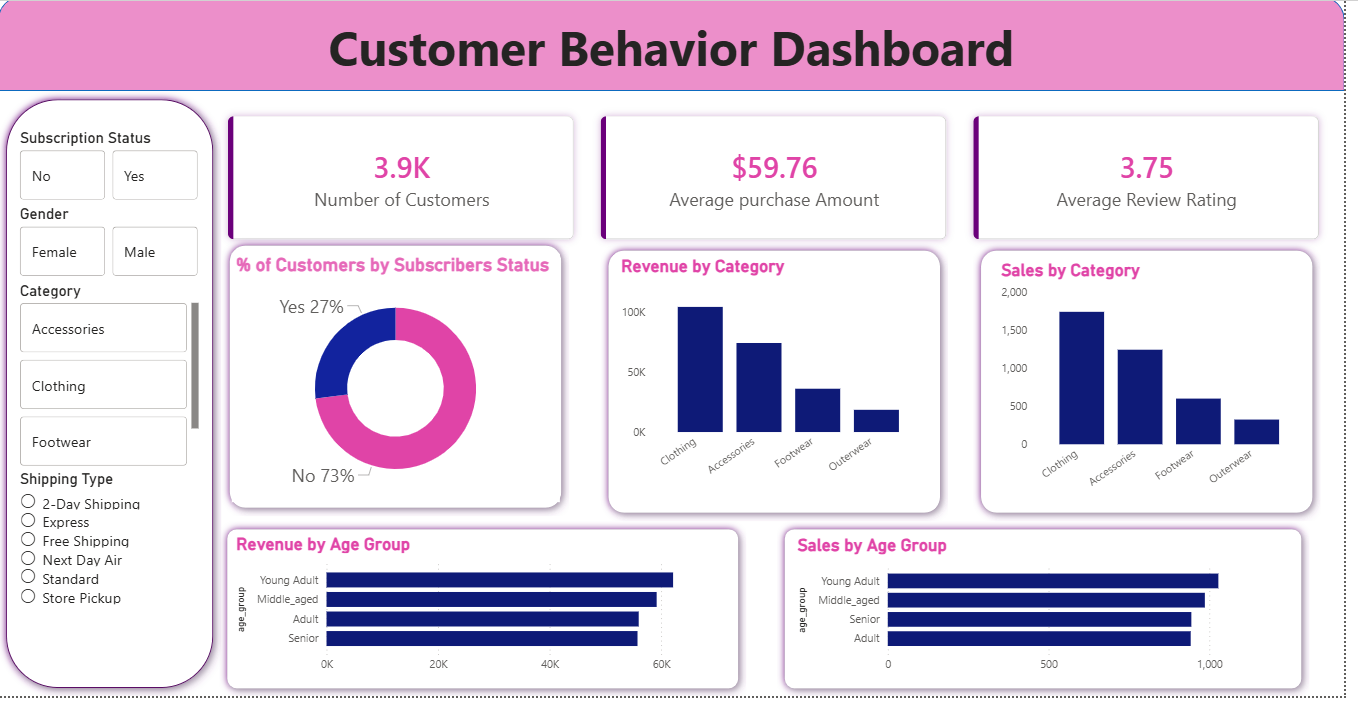

The page's visual inventory and layout, read from the dashboard file:
{"tool":"powerbi","page":{"name":"Page 1","canvas":[1500,820],"ordinal":0},"visuals":[{"type":"cardVisual","fields":{"Data":["public customer.Number of Customers","public customer.Average purchase Amount","public customer.Average Review Rating"]},"box":[228.3,146.4,1272,193.6],"z":0},{"type":"shape","box":[0,40.9,1500.3,105.5],"z":1000},{"type":"textbox","box":[0,55.1,1500.3,91.3],"z":2000},{"type":"shape","box":[248.7,308.6,387.3,310.1],"z":3000},{"type":"donutChart","title":"% of Customers by Subscribers Status","fields":{"Category":["public customer.subscription_status"],"Y":["CountNonNull(public customer.customer_id)"]},"box":[259.8,327.5,365.2,277.1],"z":4000},{"type":"shape","box":[0,146.4,248.7,673.8],"z":5000},{"type":"advancedSlicerVisual","fields":{"Values":["public customer.subscription_status"]},"box":[18.9,187.3,209.4,85],"z":6000},{"type":"shape","box":[670.7,314.9,387.3,310.1],"z":7000},{"type":"shape","box":[1086.3,314.9,387.3,310.1],"z":8000},{"type":"clusteredColumnChart","title":"Sales by Category","fields":{"Y":["CountNonNull(public customer.customer_id)"],"Category":["public customer.category"]},"box":[1113,333.8,347.9,275.5],"z":9000},{"type":"clusteredColumnChart","title":"Revenue by Category","fields":{"Y":["Sum(public customer.purchase_amount)"],"Category":["public customer.category"]},"box":[689.5,330.6,347.9,266.1],"z":10000},{"type":"advancedSlicerVisual","fields":{"Values":["public customer.gender"]},"box":[18.9,272.4,209.4,85],"z":11000},{"type":"advancedSlicerVisual","fields":{"Values":["public customer.category"]},"box":[18.9,357.4,209.4,211],"z":12000},{"type":"listSlicer","fields":{"Values":["public customer.shipping_type"]},"box":[18.9,568.3,196.8,201.5],"z":13000},{"type":"shape","box":[247.2,625,587.2,195.2],"z":14000},{"type":"clusteredBarChart","title":"Revenue by Age Group","fields":{"Y":["Sum(public customer.purchase_amount)"],"Category":["public customer.age_group"]},"box":[259.8,639.2,555.7,163.7],"z":15000},{"type":"shape","box":[867.4,625,593.5,195.2],"z":16000},{"type":"clusteredBarChart","title":"Sales by Age Group","fields":{"Y":["CountNonNull(public customer.customer_id)"],"Category":["public customer.age_group"]},"box":[886.3,640.7,555.7,162.2],"z":16001}]}

Visuals, with their boxes on the page's 1500x820 design canvas (x1, y1, x2, y2). These are canvas units, not pixel positions in the 1358x701 screenshot, which may show the page scaled, cropped or inside an application window:
cardVisual - public customer.Number of Customers x public customer.Average purchase Amount: bbox=[228, 146, 1500, 340]
shape: bbox=[0, 41, 1500, 146]
textbox: bbox=[0, 55, 1500, 146]
shape: bbox=[249, 309, 636, 619]
"% of Customers by Subscribers Status" donutChart: bbox=[260, 328, 625, 605]
shape: bbox=[0, 146, 249, 820]
advancedSlicerVisual - public customer.subscription_status: bbox=[19, 187, 228, 272]
shape: bbox=[671, 315, 1058, 625]
shape: bbox=[1086, 315, 1474, 625]
"Sales by Category" clusteredColumnChart: bbox=[1113, 334, 1461, 609]
"Revenue by Category" clusteredColumnChart: bbox=[690, 331, 1037, 597]
advancedSlicerVisual - public customer.gender: bbox=[19, 272, 228, 357]
advancedSlicerVisual - public customer.category: bbox=[19, 357, 228, 568]
listSlicer - public customer.shipping_type: bbox=[19, 568, 216, 770]
shape: bbox=[247, 625, 834, 820]
"Revenue by Age Group" clusteredBarChart: bbox=[260, 639, 816, 803]
shape: bbox=[867, 625, 1461, 820]
"Sales by Age Group" clusteredBarChart: bbox=[886, 641, 1442, 803]
